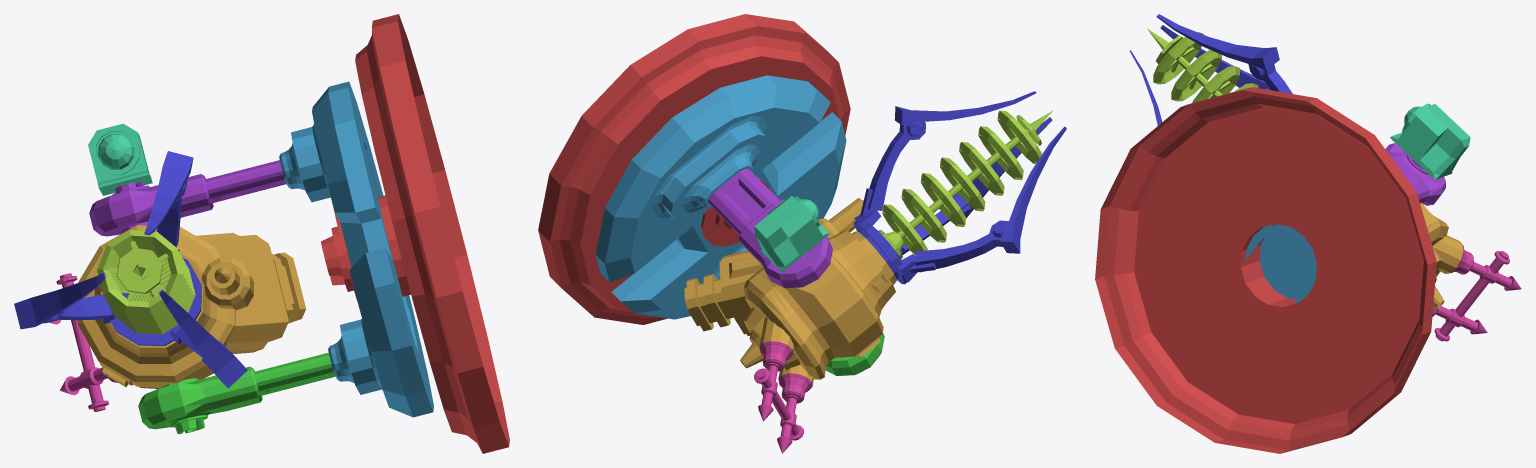
Rendered from seg_pump_groundtruth.glb.
The picture shows the model from 3 angles, left to right: view 1: azimuth 30°, elevation 25°; view 2: azimuth 150°, elevation 25°; view 3: azimuth 270°, elevation 25°; orthographic projection. The views are drawn at different scales.
Parts seen in each view (by area): view 1: world; view 2: world; view 3: world.
Boxes of the visible parts, left/top/right/bottom form: world: left=14, top=14, right=509, bottom=453; world: left=538, top=14, right=1066, bottom=453; world: left=1095, top=14, right=1521, bottom=453.
Size of the model in its own units: 1.68 by 1.24 by 1.47.
